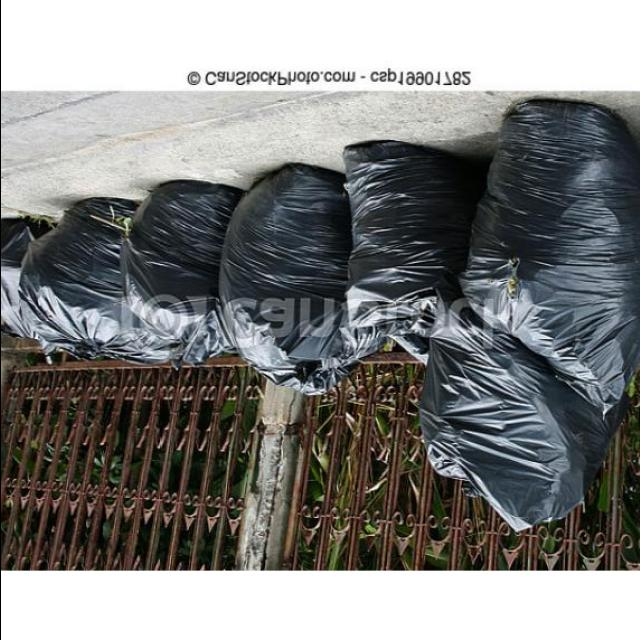plastik: (460, 99, 640, 410), (419, 300, 624, 531), (219, 163, 366, 394), (344, 142, 482, 337), (122, 180, 240, 362), (19, 198, 136, 358)
